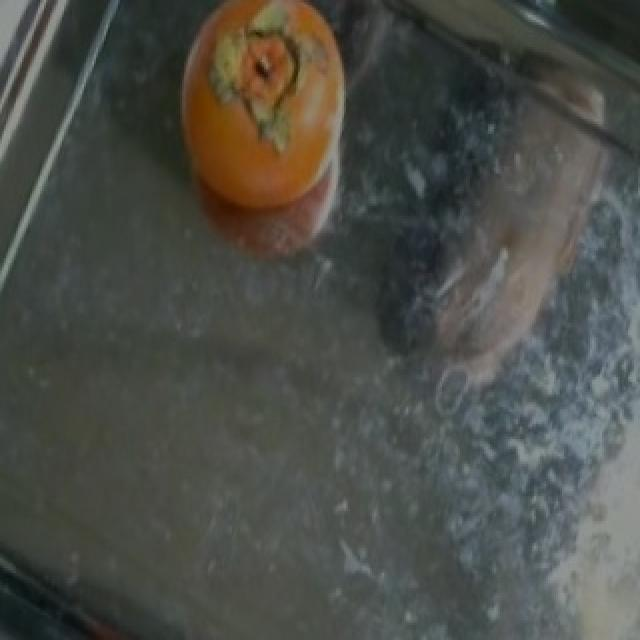Fruit: (144, 0, 380, 288)
